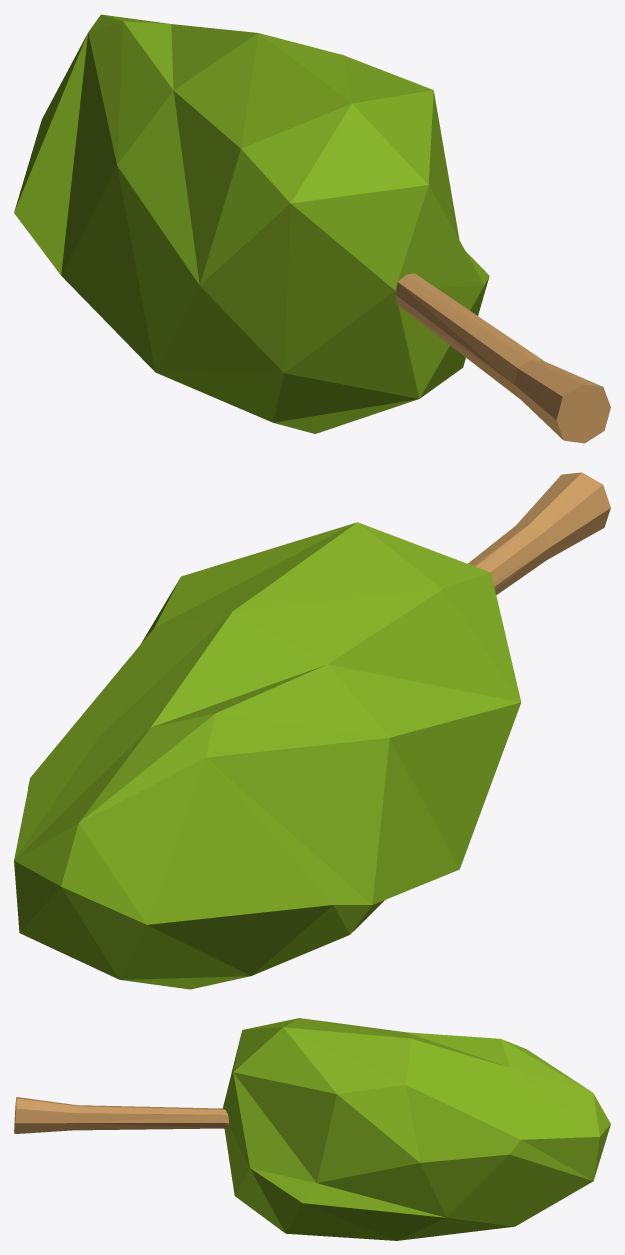
Rendered from tree03a.fbx.
3 views of the same model, one above another, from view 1: azimuth 30°, elevation 25°; view 2: azimuth 150°, elevation 25°; view 3: azimuth 270°, elevation 25° (orthographic). The views are drawn at different scales.
Visible parts, largest first — view 1: Tree; view 2: Tree; view 3: Tree.
Part boxes in pixels (x1,y1,x2,y2): Tree: (14, 14, 610, 443); Tree: (14, 472, 610, 989); Tree: (14, 1018, 610, 1240).
Size of the model in its own units: 2.24 by 2.42 by 6.3.
